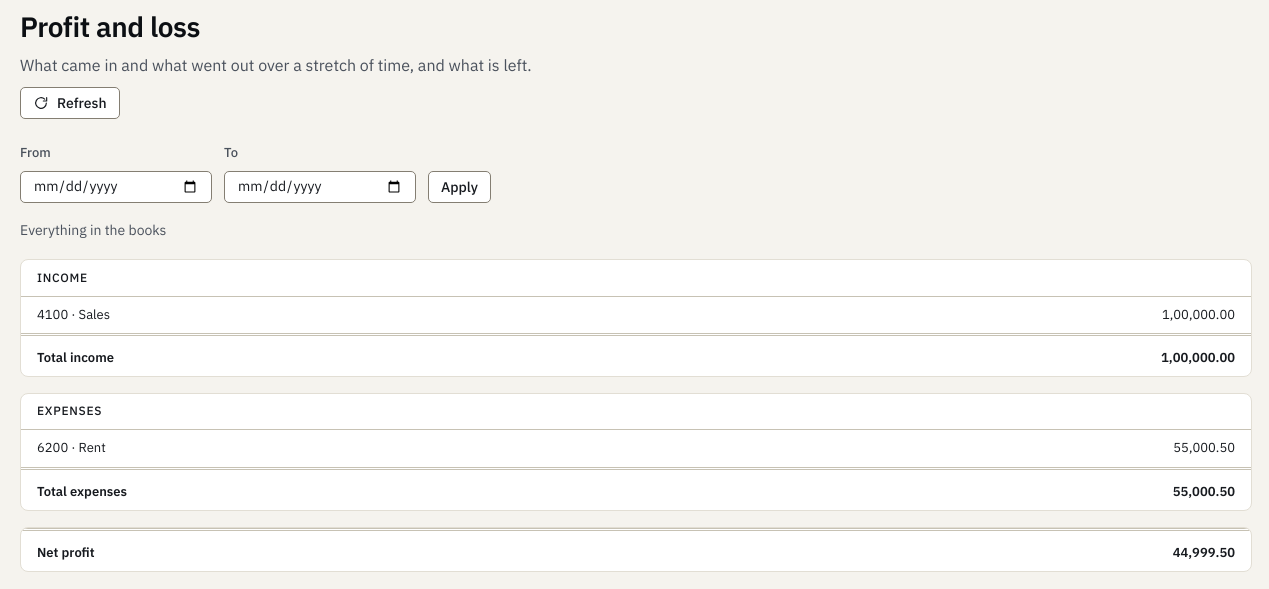
Test case: ProfitAndLoss › clears back to the whole ledger
Check: the text "4100 · Sales" is shown, box [37, 306, 110, 323]
In the date field labelled "From": (116, 187) [20, 171, 212, 203], type "2026-04-01"
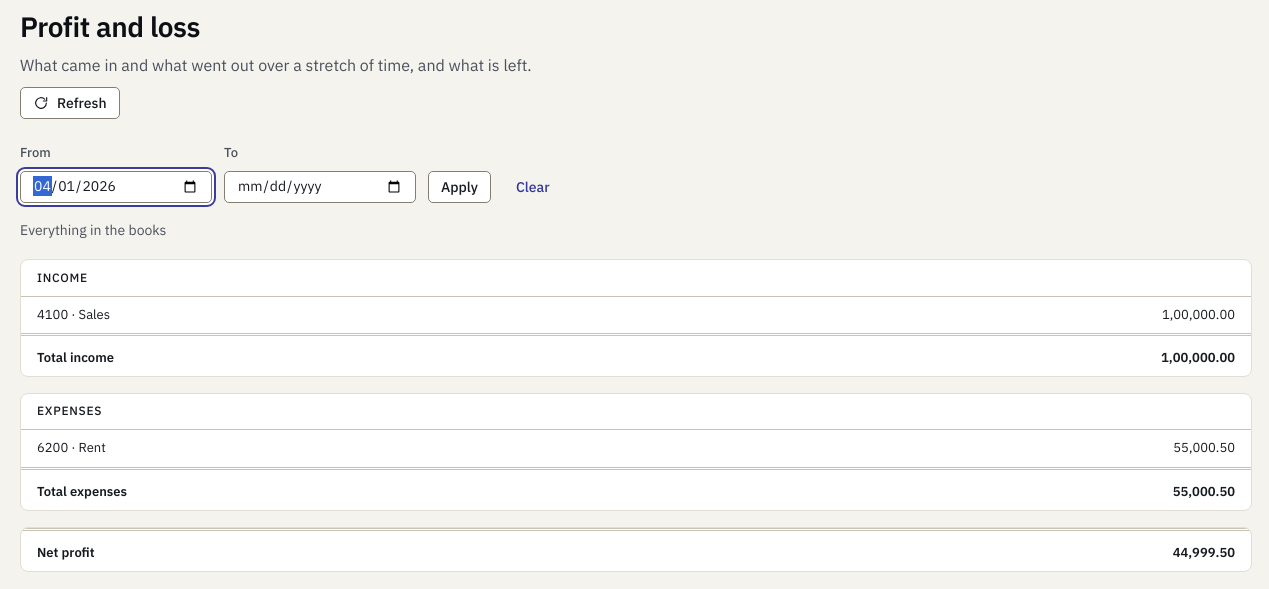
Click the button "Apply": (459, 187) [428, 171, 491, 203]
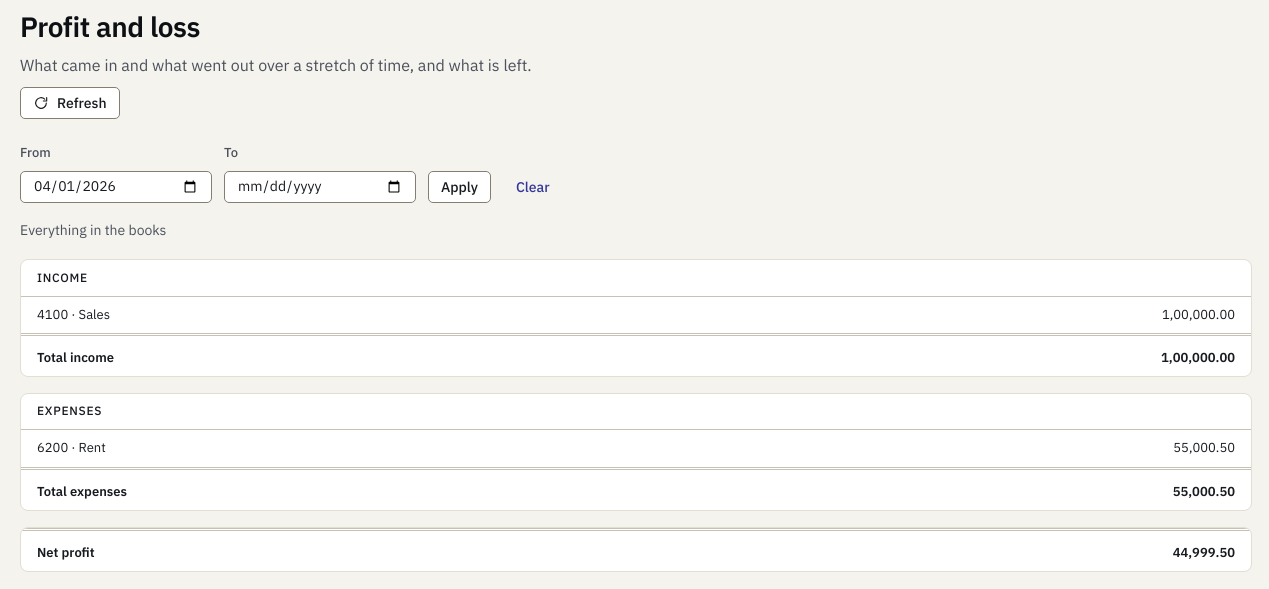
Click the button "Clear": (533, 187) [503, 171, 563, 203]
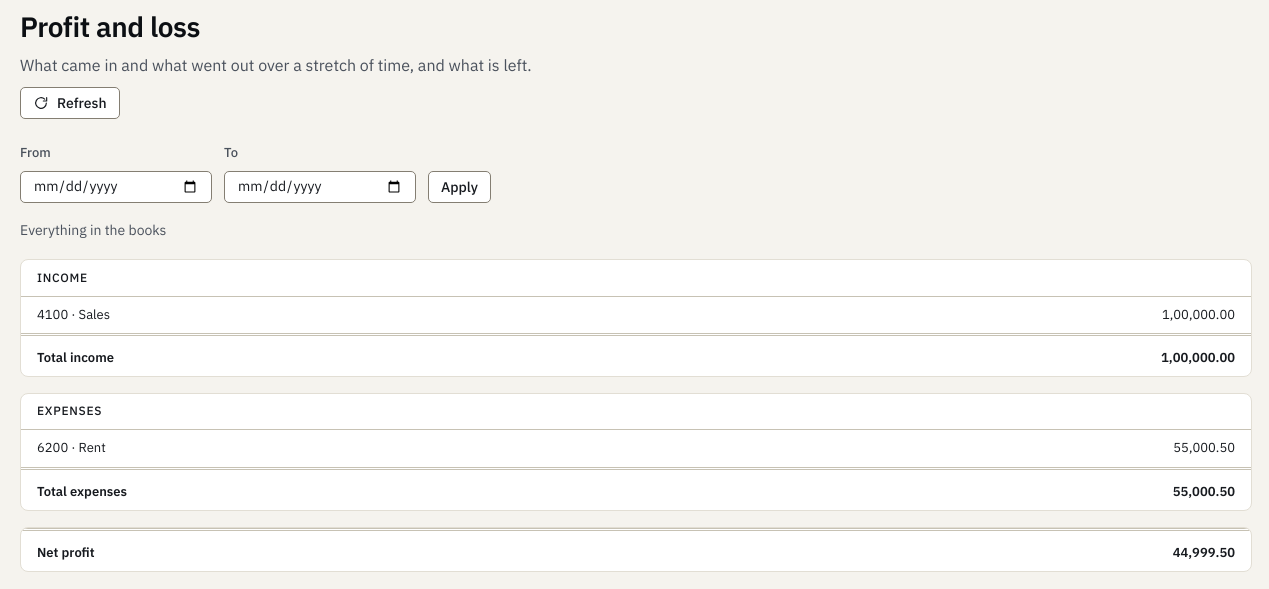
Check: the date field labelled "From" is empty, box [20, 171, 212, 203]
